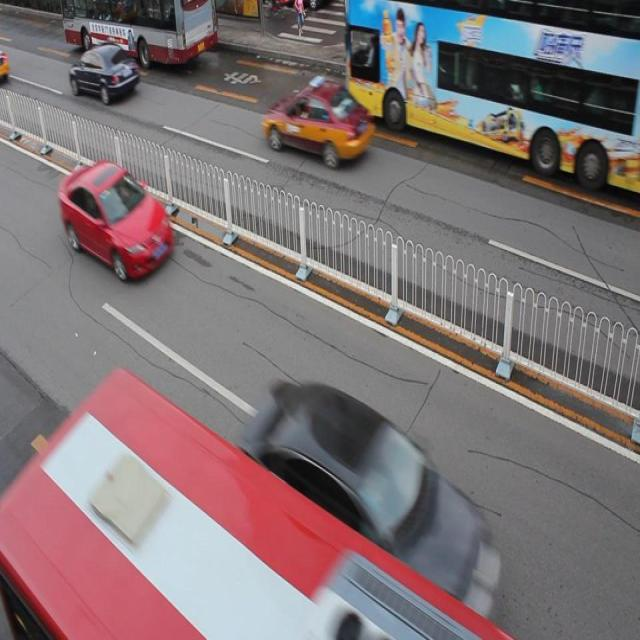car: (257, 376, 497, 605), (60, 157, 173, 277), (263, 80, 372, 167), (69, 40, 141, 103)
van: (0, 367, 512, 640), (344, 1, 640, 192), (61, 1, 217, 64)
